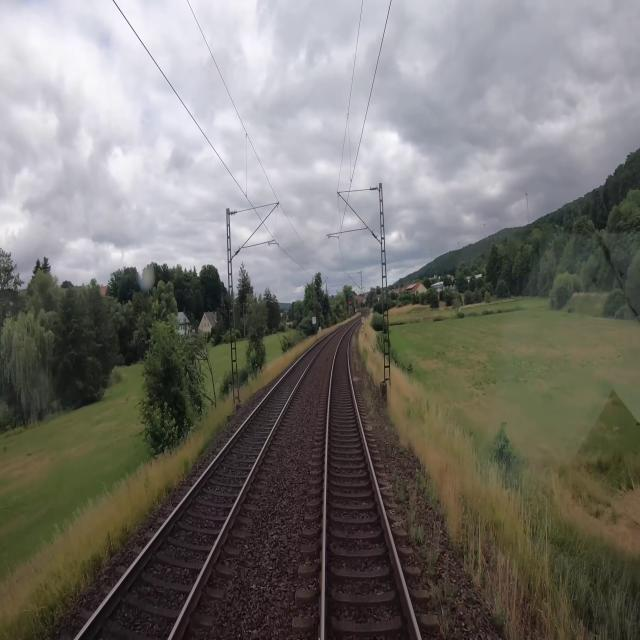Plant: (433, 576, 456, 630), (408, 482, 426, 545), (352, 330, 369, 372), (362, 385, 376, 418), (394, 473, 406, 503), (428, 548, 436, 578)
